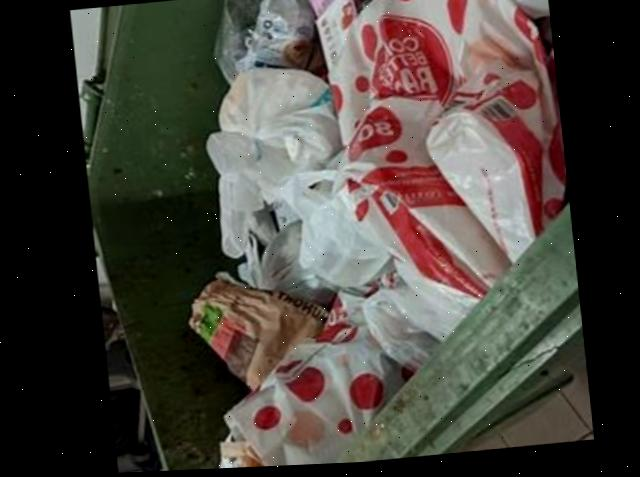Garbage: (187, 0, 564, 470)
Plastic_Bag: (199, 0, 565, 470)
